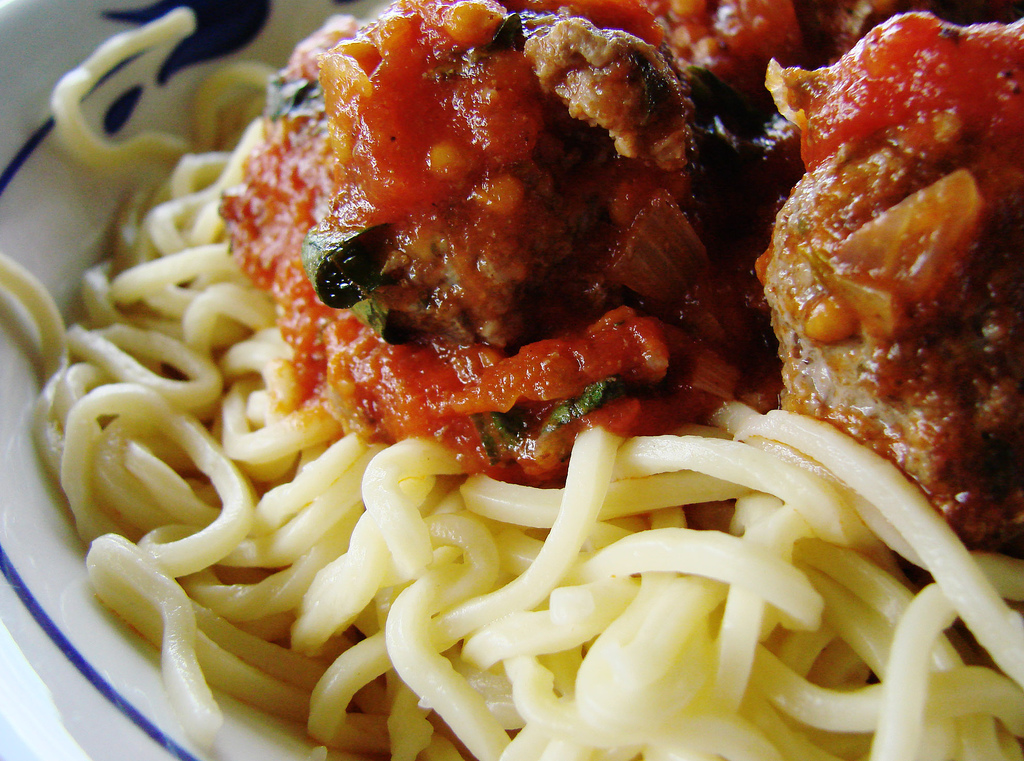meatballs: (306, 16, 693, 341), (793, 36, 996, 467)
plain spaghetti: (122, 467, 893, 721)
